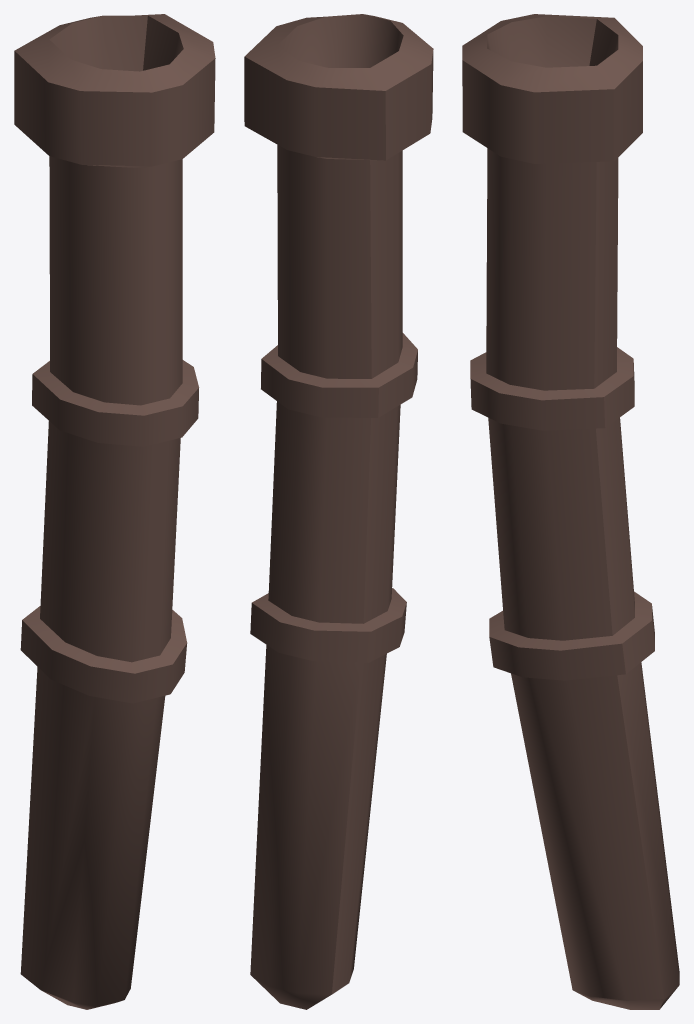
Rendered from katana_sheath.gltf.glb.
The picture shows the model from 3 angles, left to right: view 1: azimuth 30°, elevation 25°; view 2: azimuth 150°, elevation 25°; view 3: azimuth 270°, elevation 25°; orthographic projection. The views are drawn at different scales.
Visible parts, largest first — view 1: katana_sheath; view 2: katana_sheath; view 3: katana_sheath.
Part boxes in pixels (left/top/right/bottom): katana_sheath: left=14, top=14, right=215, bottom=1009; katana_sheath: left=244, top=14, right=433, bottom=1009; katana_sheath: left=462, top=14, right=679, bottom=1009.
Bounding box in the file's own units: 0.1817 × 1.04 × 0.2126.
